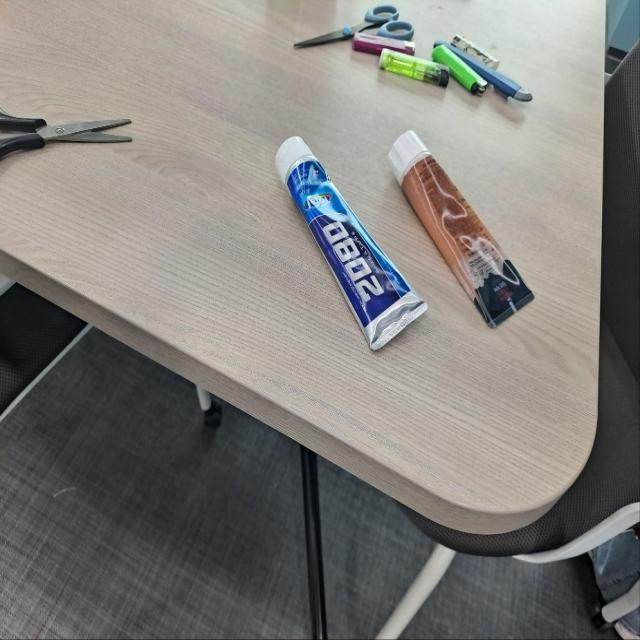cutter: (433, 43, 536, 110)
lighter: (432, 42, 488, 97), (378, 50, 450, 90), (349, 28, 416, 58), (454, 31, 500, 72)
scissors: (0, 97, 139, 166), (290, 1, 418, 56)
toothpaste: (270, 132, 426, 354), (388, 134, 538, 330)
